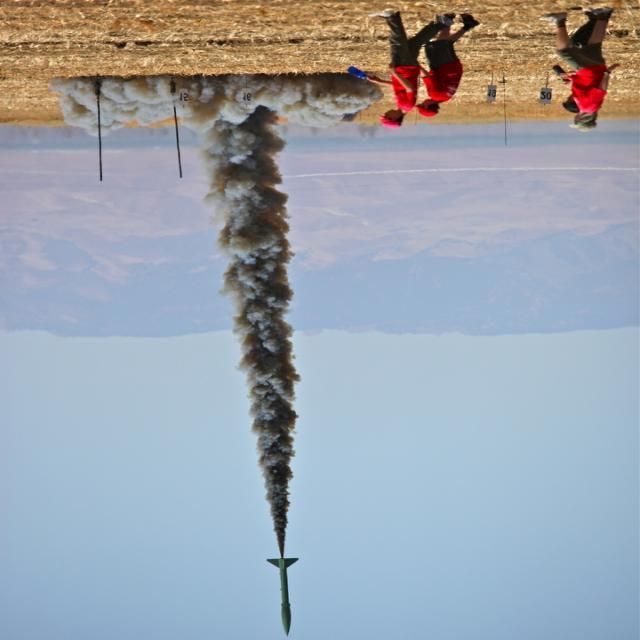Missile: (267, 557, 295, 638)
